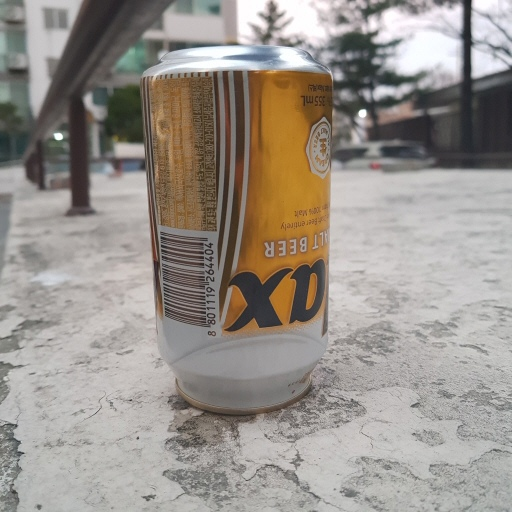Metal_0: (139, 47, 336, 412)
